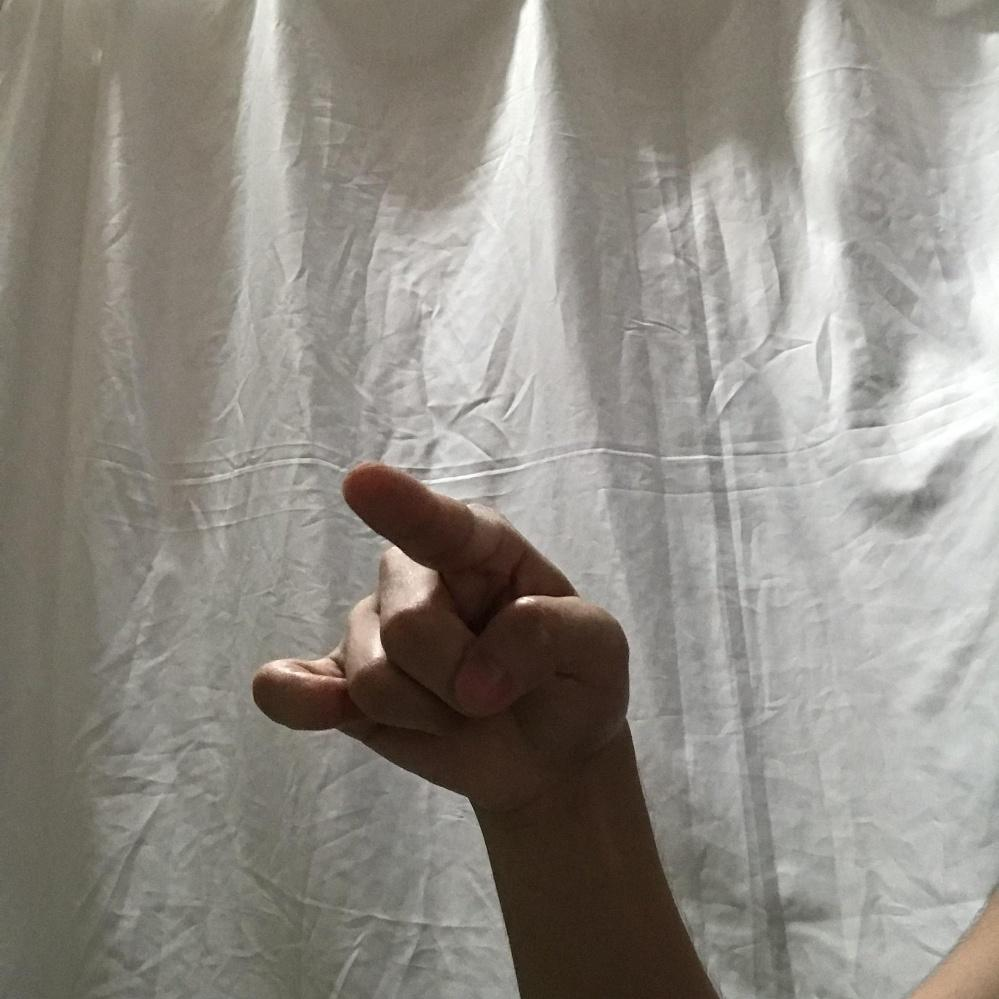z: (255, 461, 632, 790)
